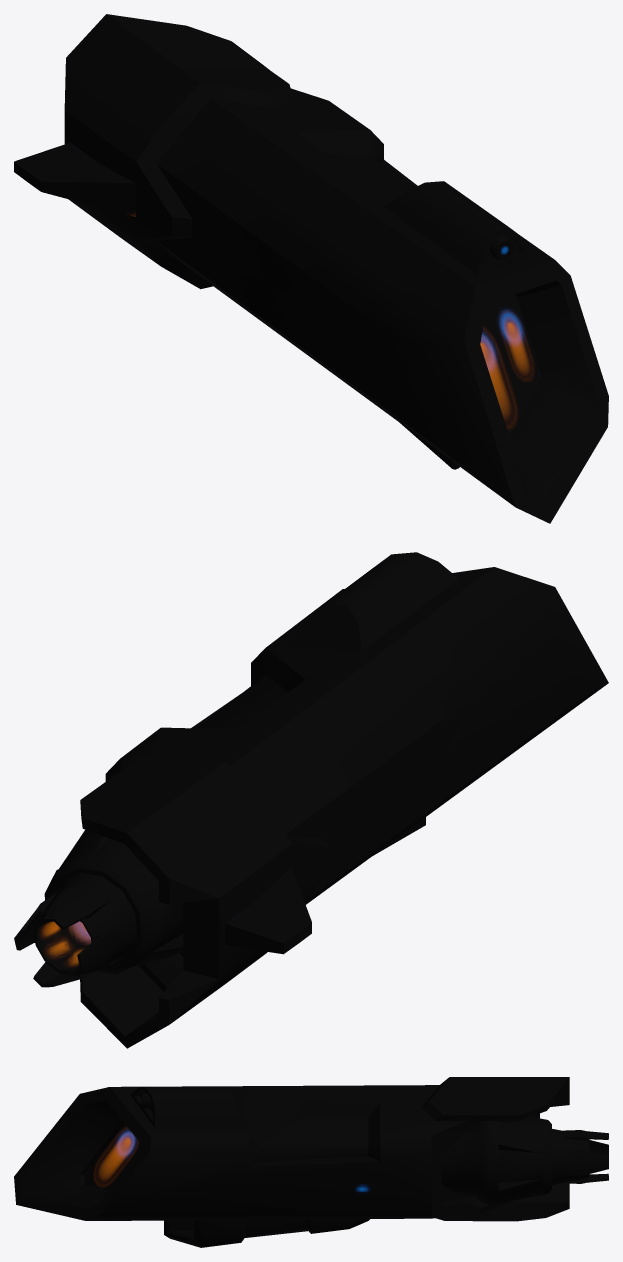
File: SM_R_Engine_6.fbx
3 renders of one model, top to bottom at view 1: azimuth 30°, elevation 25°; view 2: azimuth 150°, elevation 25°; view 3: azimuth 270°, elevation 25°, orthographic. The views are drawn at different scales.
Parts seen in each view (by area): view 1: SM_R_Engine_6; view 2: SM_R_Engine_6; view 3: SM_R_Engine_6.
Part boxes in pixels (x1,y1,x2,y2): SM_R_Engine_6: [14, 14, 608, 523]; SM_R_Engine_6: [14, 552, 608, 1048]; SM_R_Engine_6: [14, 1077, 608, 1247].
Bounding box in the file's own units: 54.72 × 50.26 × 172.
